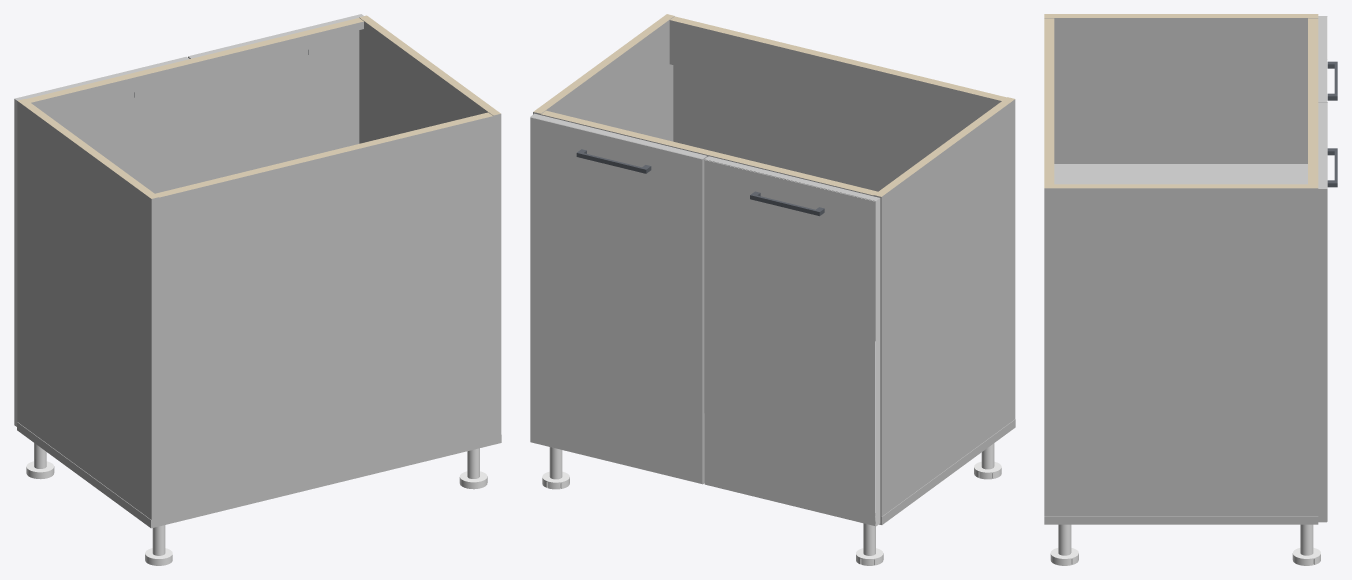
3 renders of one model, left to right at view 1: azimuth 30°, elevation 25°; view 2: azimuth 150°, elevation 25°; view 3: azimuth 270°, elevation 25°, orthographic. The views are drawn at different scales.
Visible parts, largest first — view 1: Group1, Group2; view 2: Group1, Group2; view 3: Group1, Group2.
Part boxes in pixels (x1,y1,x2,y2): Group1: [14, 14, 501, 528]; Group2: [26, 443, 487, 565]; Group1: [530, 14, 1015, 526]; Group2: [542, 443, 1001, 565]; Group1: [1044, 14, 1337, 524]; Group2: [1050, 524, 1320, 565].
Bounding box in the file's own units: 802 × 815 × 570.
